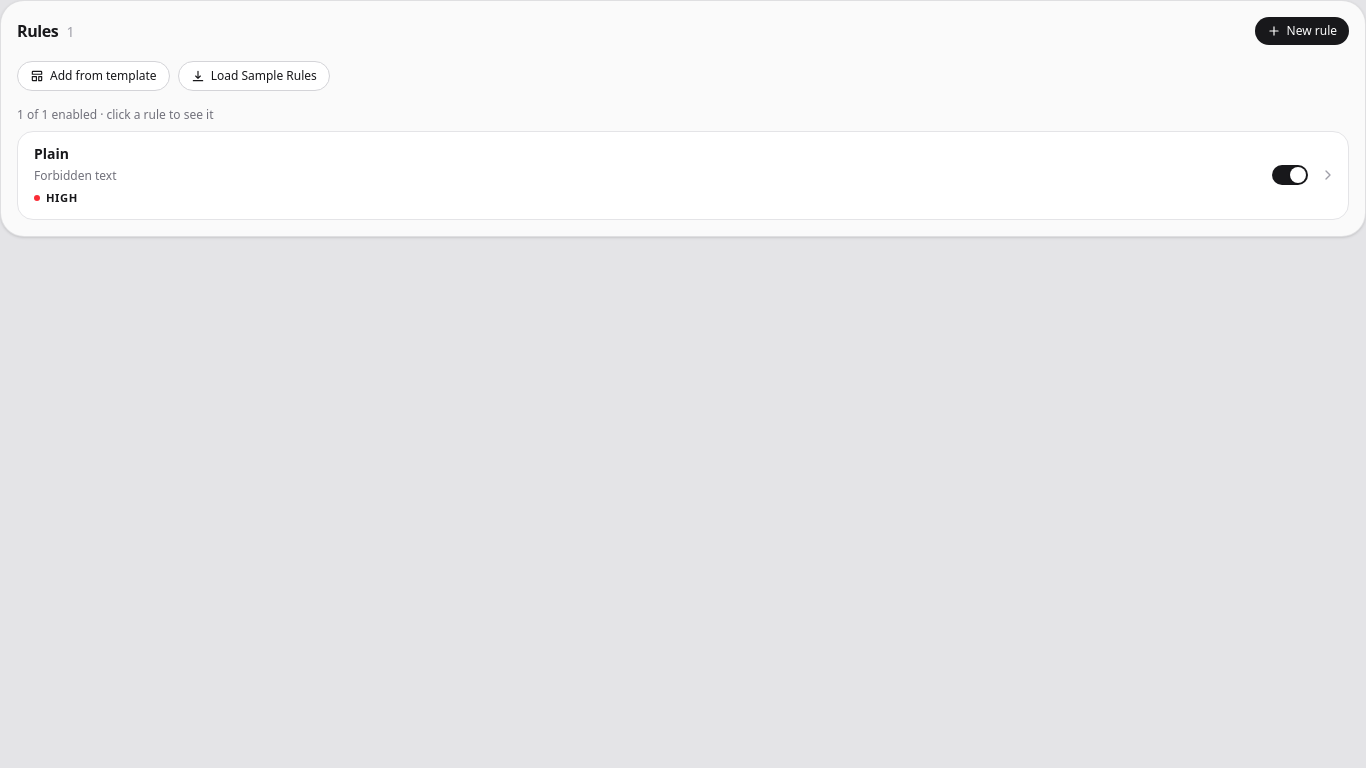
RulesPanel › closes dialogs with Escape and returns focus to the rule
Click the button with aria-label "Open rule Plain" at x=52, y=154, box [18,132,1260,219]
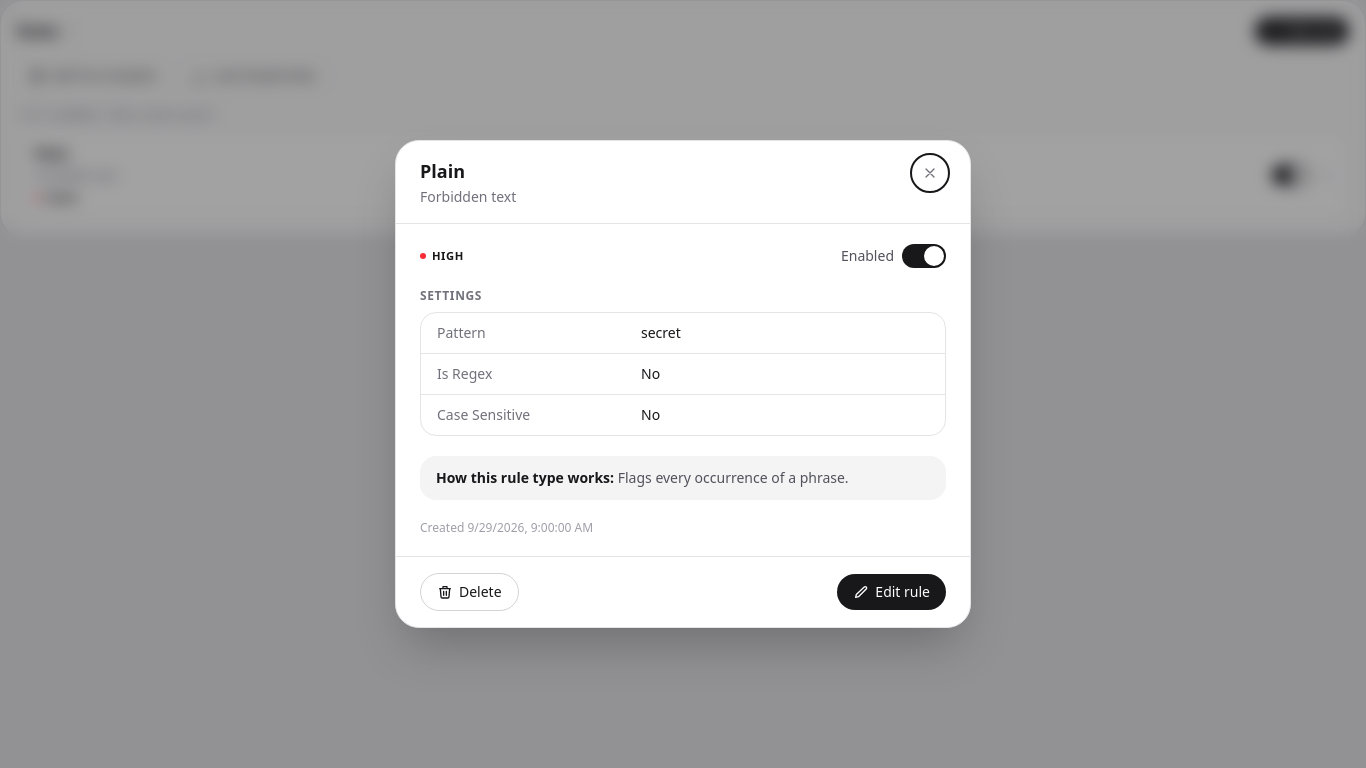
Expected: the dialog "Plain" is shown, [395,140,971,628]
Press Escape
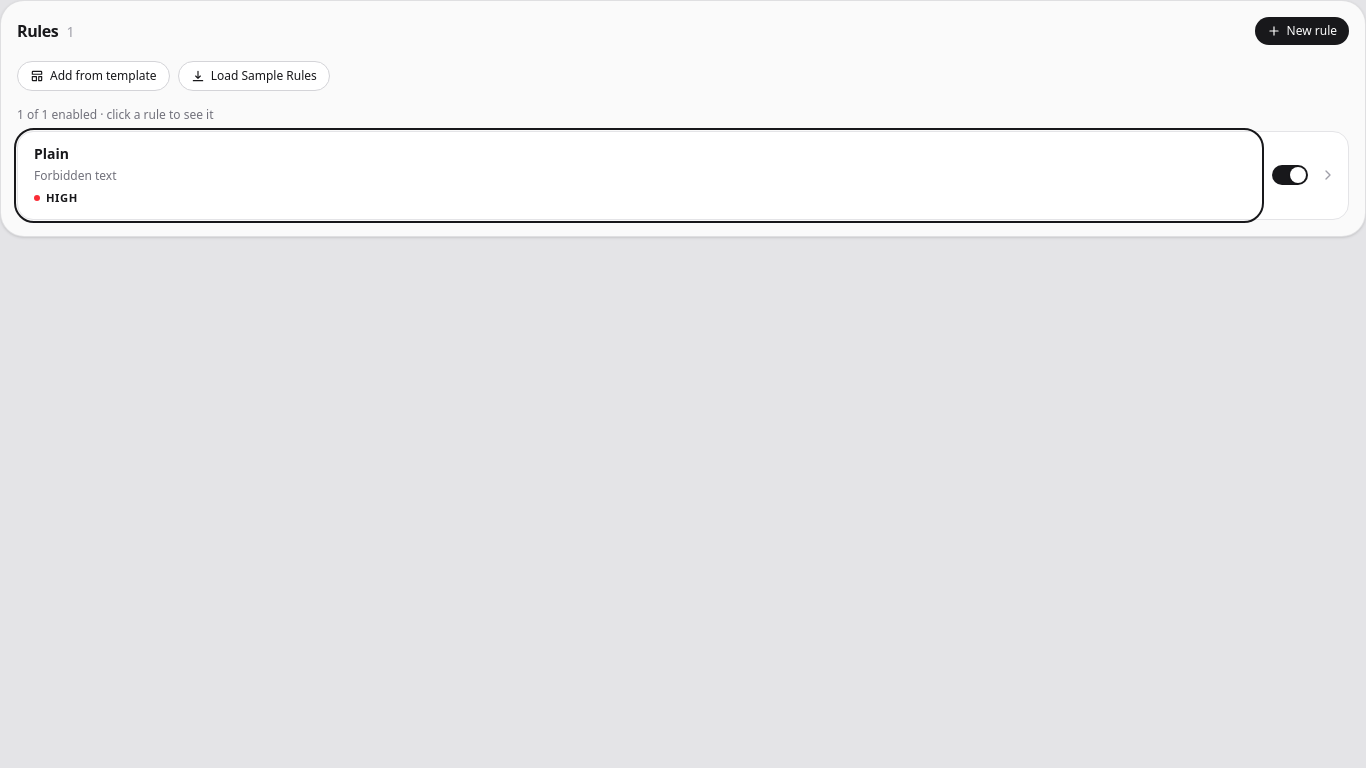
Expected: the dialog is gone
